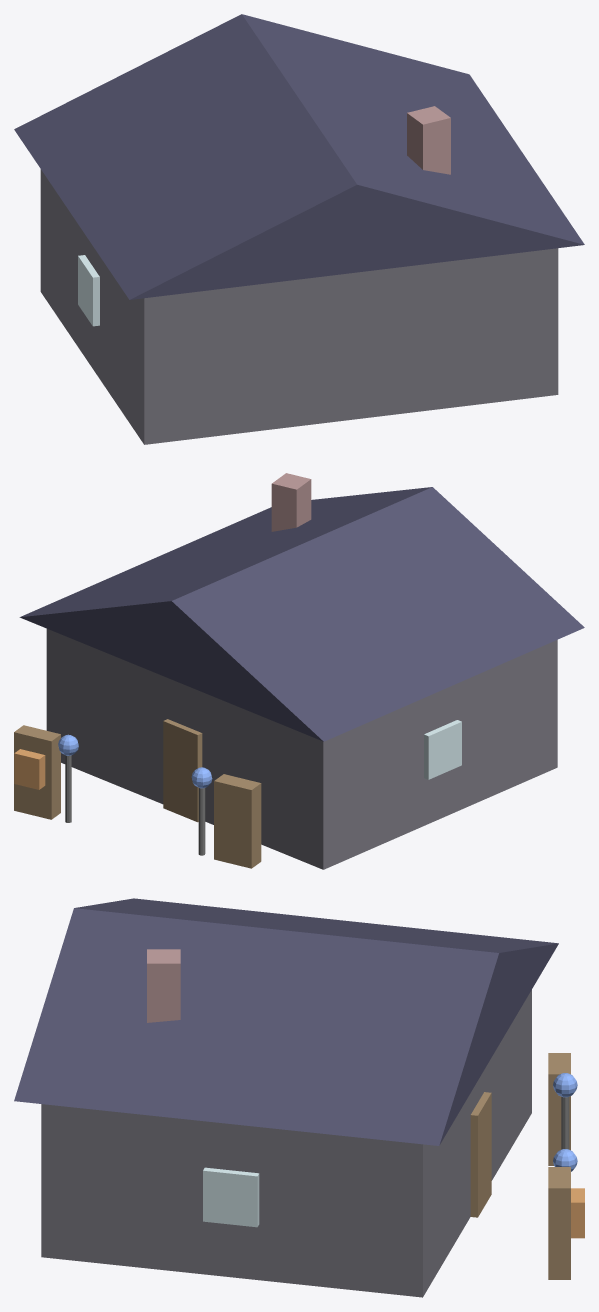
The model's file is house_hades.glb.
3 renders of one model, top to bottom at view 1: azimuth 30°, elevation 25°; view 2: azimuth 150°, elevation 25°; view 3: azimuth 270°, elevation 25°, orthographic. The views are drawn at different scales.
Visible parts, largest first — view 1: hades_atap.001, hades_dinding.001, hades_cerobong.001, hades_jendela_-1.001; view 2: hades_atap.001, hades_dinding.001, hades_rak_kiri.001, hades_pintu.001, hades_rak_kanan.001, hades_cerobong.001, hades_jendela_-1.001, hades_kotak_pos.001, hades_lentera_kiri_tiang.001; view 3: hades_atap.001, hades_dinding.001, hades_jendela_1.001, hades_rak_kanan.001, hades_cerobong.001, hades_pintu.001, hades_rak_kiri.001, hades_kotak_pos.001.
Part boxes in pixels (x1,y1,x2,y2): hades_atap.001: [14, 14, 584, 299]; hades_dinding.001: [40, 169, 558, 444]; hades_cerobong.001: [407, 106, 450, 174]; hades_jendela_-1.001: [78, 255, 99, 326]; hades_atap.001: [19, 487, 584, 741]; hades_dinding.001: [46, 629, 557, 869]; hades_rak_kiri.001: [214, 774, 261, 868]; hades_pintu.001: [163, 719, 202, 822]; hades_rak_kanan.001: [14, 725, 60, 819]; hades_cerobong.001: [271, 473, 311, 531]; hades_jendela_-1.001: [424, 720, 461, 779]; hades_kotak_pos.001: [14, 749, 45, 789]; hades_lentera_kiri_tiang.001: [198, 788, 205, 855]; hades_atap.001: [14, 898, 558, 1145]; hades_dinding.001: [41, 990, 531, 1297]; hades_jendela_1.001: [203, 1167, 259, 1227]; hades_rak_kanan.001: [548, 1167, 570, 1279]; hades_cerobong.001: [147, 949, 180, 1022]; hades_pintu.001: [470, 1092, 491, 1217]; hades_rak_kiri.001: [548, 1053, 570, 1165]; hades_kotak_pos.001: [571, 1188, 584, 1238].
Size of the model in its own units: 10.43 by 5.2 by 10.16.
